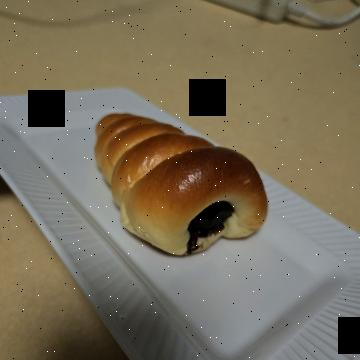cream horn: (84, 79, 270, 278)
